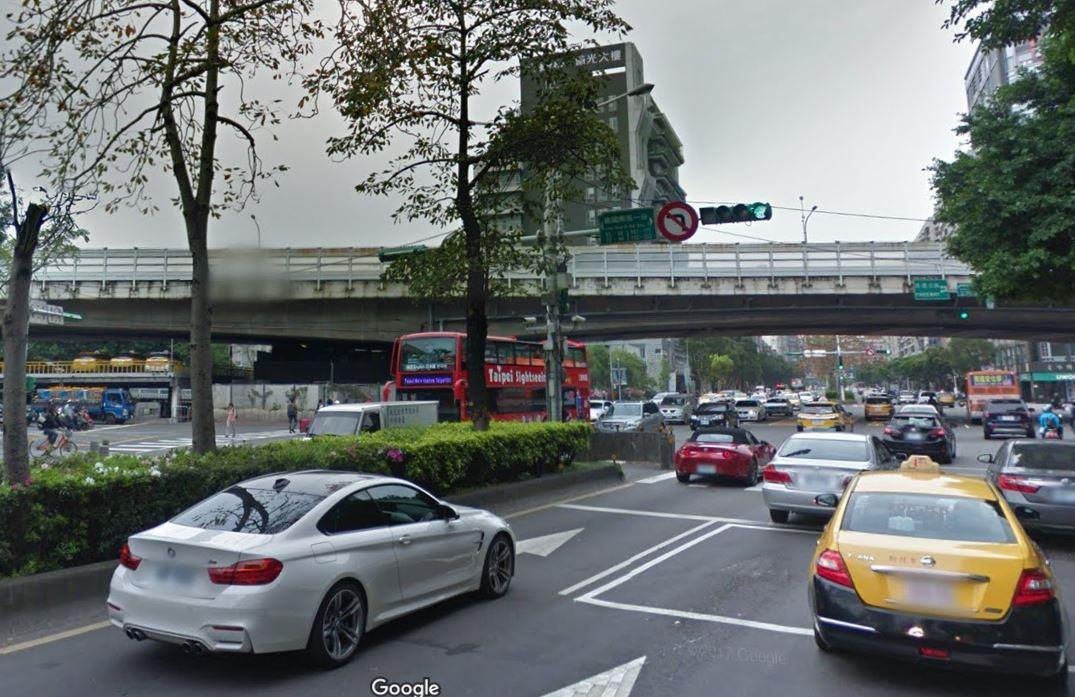green_traffic_light: (699, 197, 771, 223)
no_left_turn: (656, 201, 698, 239)
